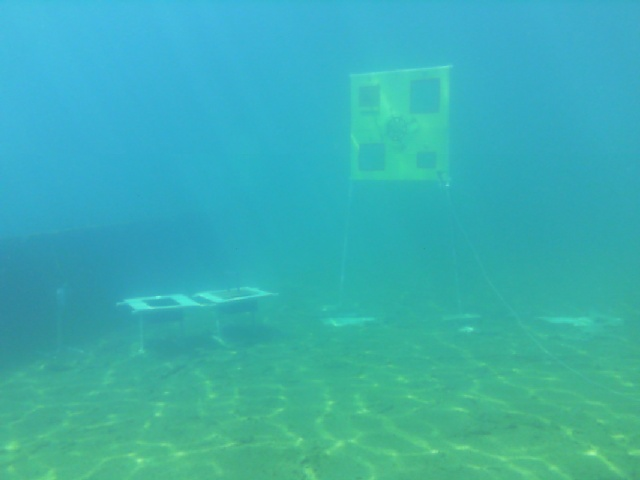bin: (125, 291, 204, 316), (195, 285, 278, 308)
bin_cover: (207, 269, 262, 305)
torpedo_cover: (355, 84, 381, 107)
torpedo_hole: (409, 79, 441, 114), (357, 140, 386, 171), (357, 83, 384, 115), (417, 150, 438, 170)
torpedo_target: (347, 66, 453, 186)
